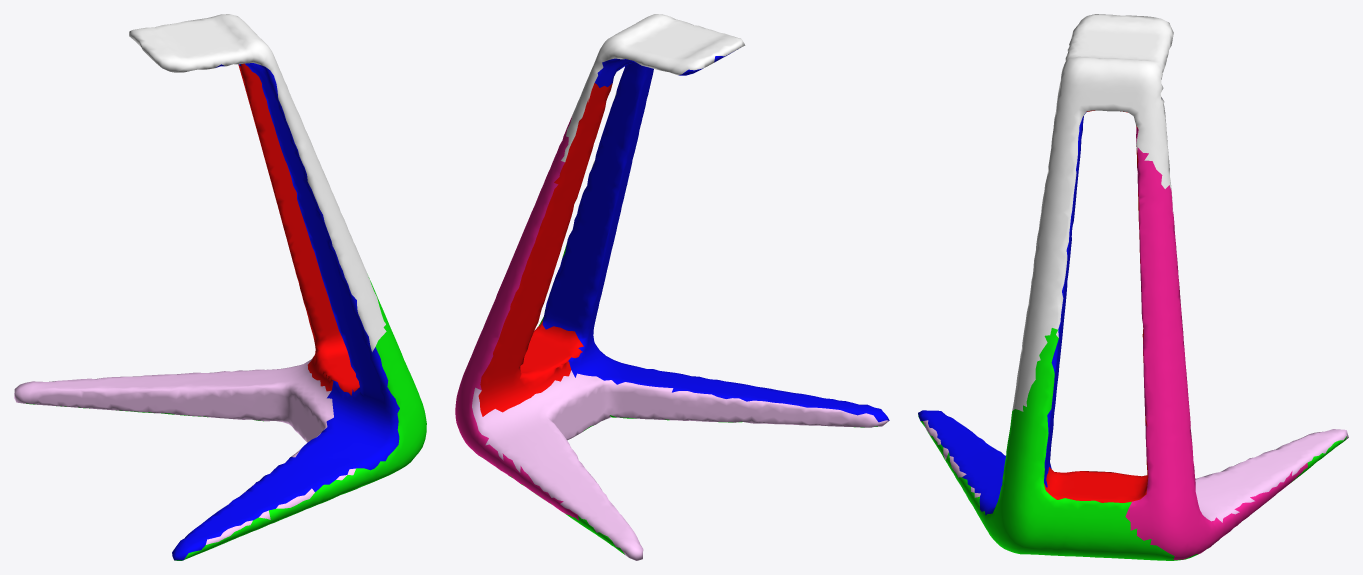
Rendered from phone_holder_segmented.obj.
The picture shows the model from 3 angles, left to right: view 1: azimuth 30°, elevation 25°; view 2: azimuth 150°, elevation 25°; view 3: azimuth 270°, elevation 25°; orthographic projection. The views are drawn at different scales.
Bounding box in the file's own units: 163 × 211 × 189.
